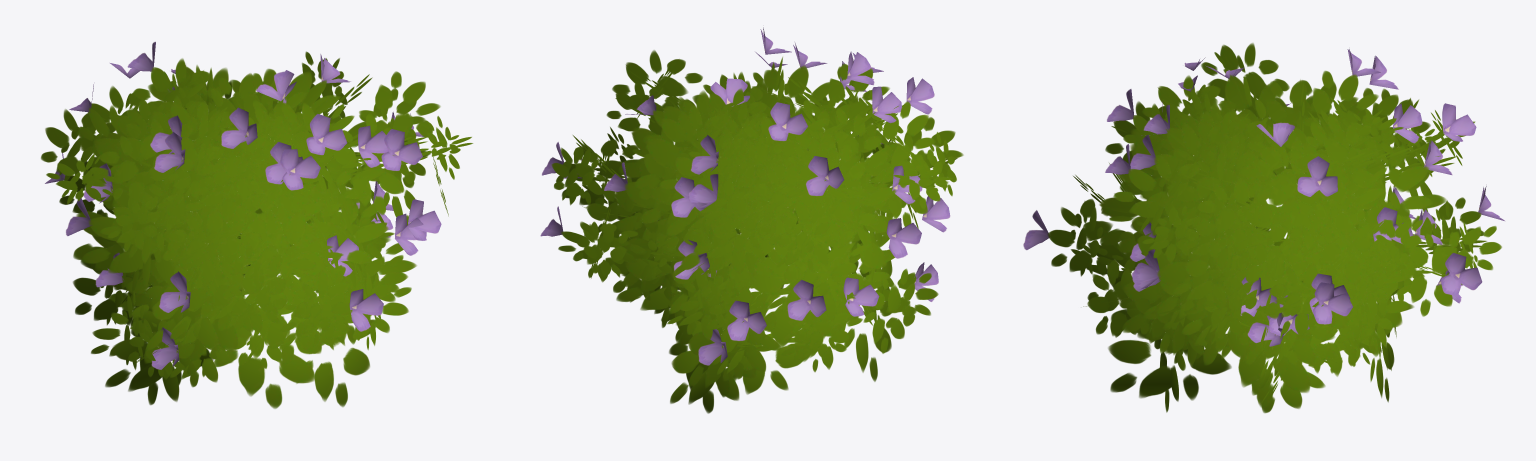
Rendered from Bush_with_Flowers.glb.
3 views of the same model, side by side, from view 1: azimuth 30°, elevation 25°; view 2: azimuth 150°, elevation 25°; view 3: azimuth 270°, elevation 25° (orthographic). The views are drawn at different scales.
Visible parts, largest first — view 1: Bush_Common_Flowers; view 2: Bush_Common_Flowers; view 3: Bush_Common_Flowers.
Boxes of the visible parts, left/top/right/bottom form: Bush_Common_Flowers: left=41, top=41, right=472, bottom=408; Bush_Common_Flowers: left=540, top=27, right=963, bottom=413; Bush_Common_Flowers: left=1023, top=43, right=1504, bottom=413.
Bounding box in the file's own units: 1.91 × 1.58 × 1.97.
Materials: 2 (2 with a texture image).
